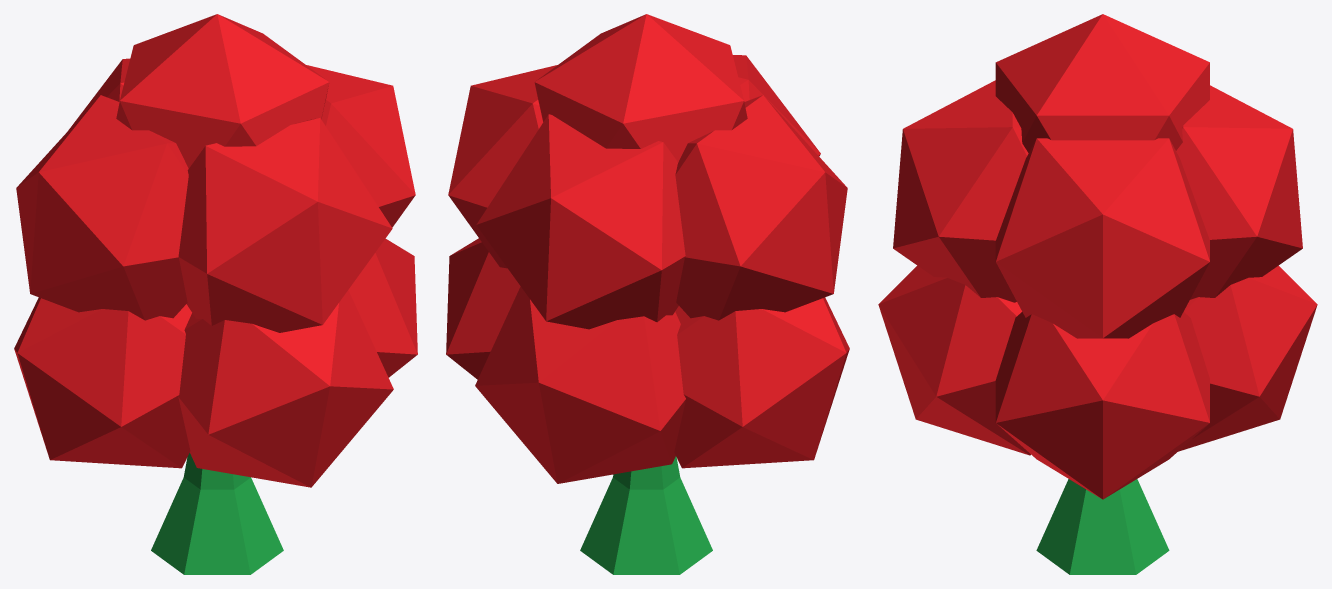
Rendered from SmallBush.obj.
3 views of the same model, side by side, from view 1: azimuth 30°, elevation 25°; view 2: azimuth 150°, elevation 25°; view 3: azimuth 270°, elevation 25° (orthographic).
Parts seen in each view (by area): view 1: Cylinder_Cylinder.004; view 2: Cylinder_Cylinder.004; view 3: Cylinder_Cylinder.004.
Boxes of the visible parts, x1,y1,x2,y2 form: Cylinder_Cylinder.004: [14, 14, 417, 574]; Cylinder_Cylinder.004: [446, 14, 849, 574]; Cylinder_Cylinder.004: [878, 14, 1317, 574].
Size of the model in its own units: 0.4352 by 0.562 by 0.417.
